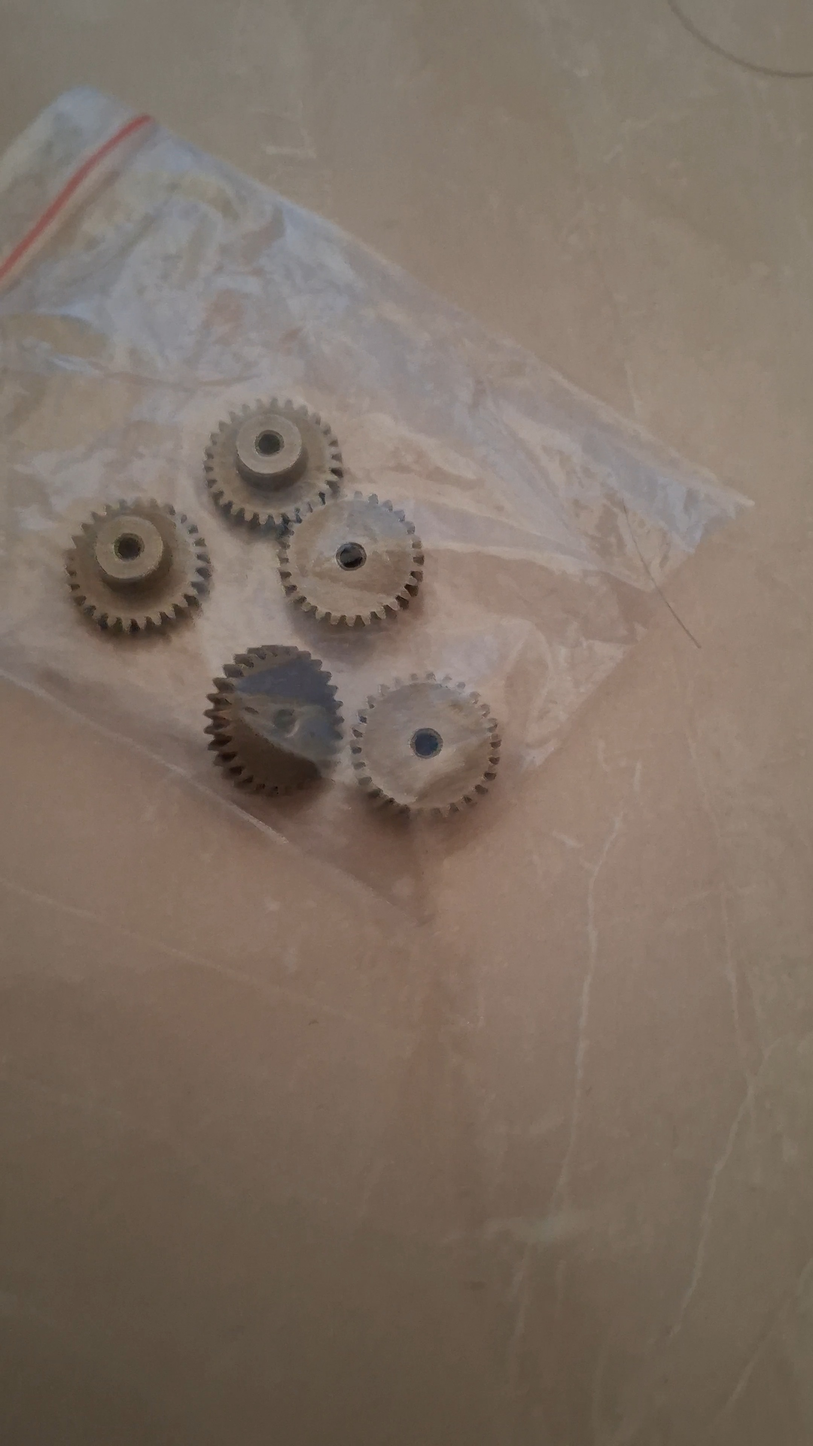spur gear: (351, 674, 500, 814), (206, 645, 343, 795), (66, 499, 211, 633), (279, 492, 423, 625), (205, 400, 342, 528)
